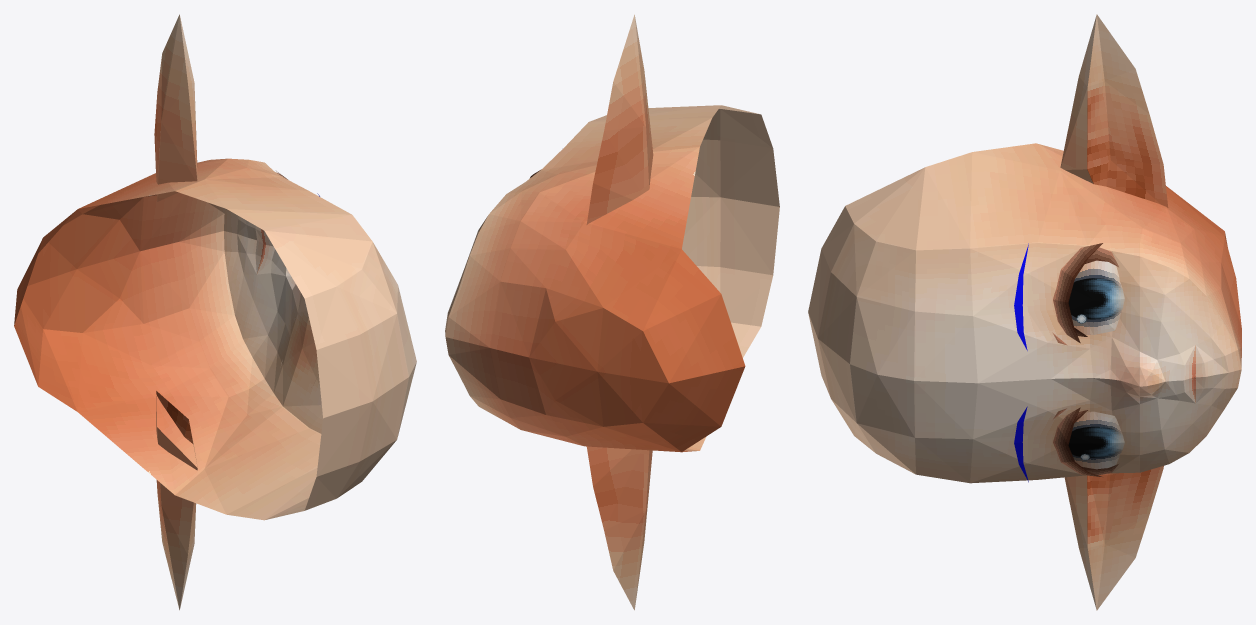
File: Npc_60014.obj
3 views of the same model, side by side, from view 1: azimuth 30°, elevation 25°; view 2: azimuth 150°, elevation 25°; view 3: azimuth 270°, elevation 25° (orthographic).
Visible parts, largest first — view 1: Npc_60014; view 2: Npc_60014; view 3: Npc_60014.
Part boxes in pixels (bbox=[...]): Npc_60014: bbox=[14, 14, 416, 610]; Npc_60014: bbox=[445, 14, 779, 610]; Npc_60014: bbox=[808, 14, 1241, 610].
Size of the model in its own units: 0.3449 by 0.6775 by 0.4462.
2 materials, 1 textured.
